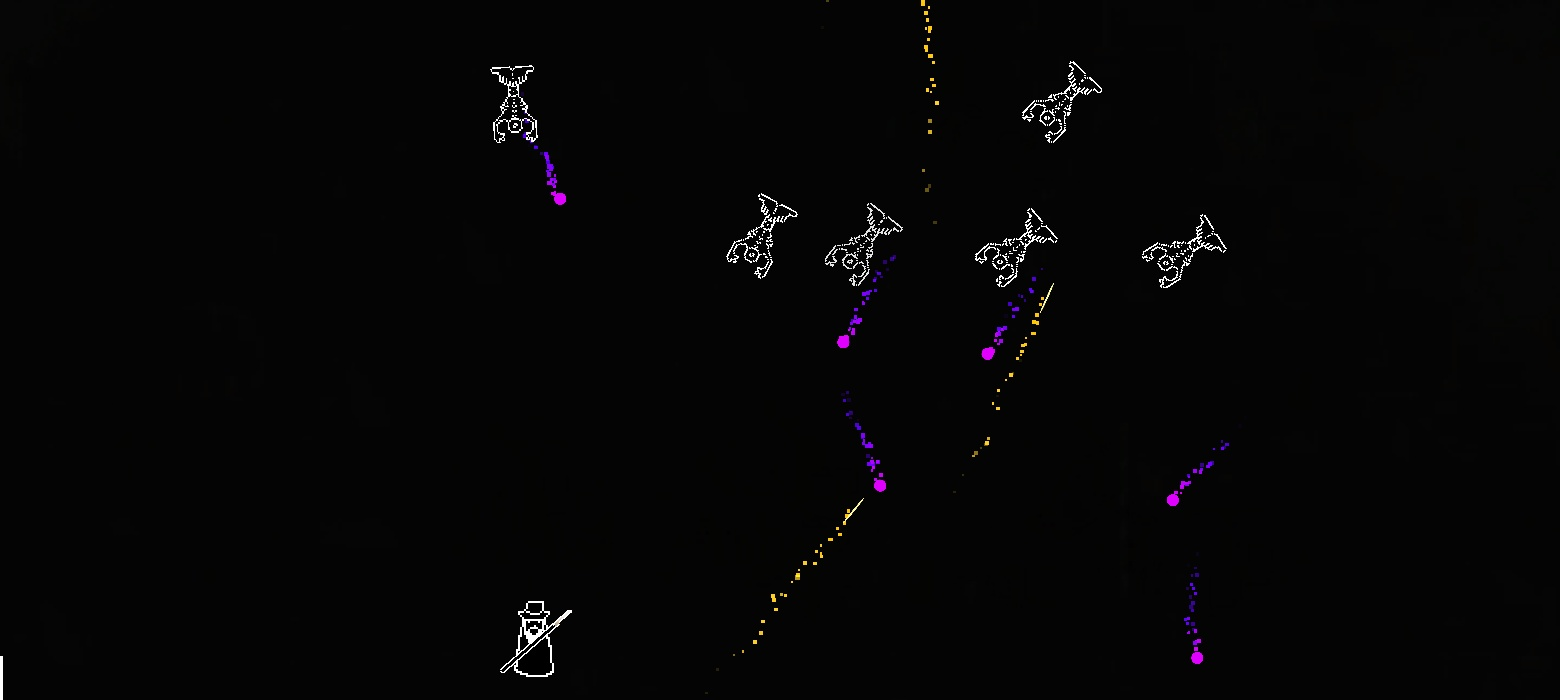enemy: (1022, 61, 1103, 144), (825, 202, 904, 287), (975, 208, 1058, 287), (1142, 214, 1228, 289), (726, 193, 798, 280), (490, 65, 538, 144)
